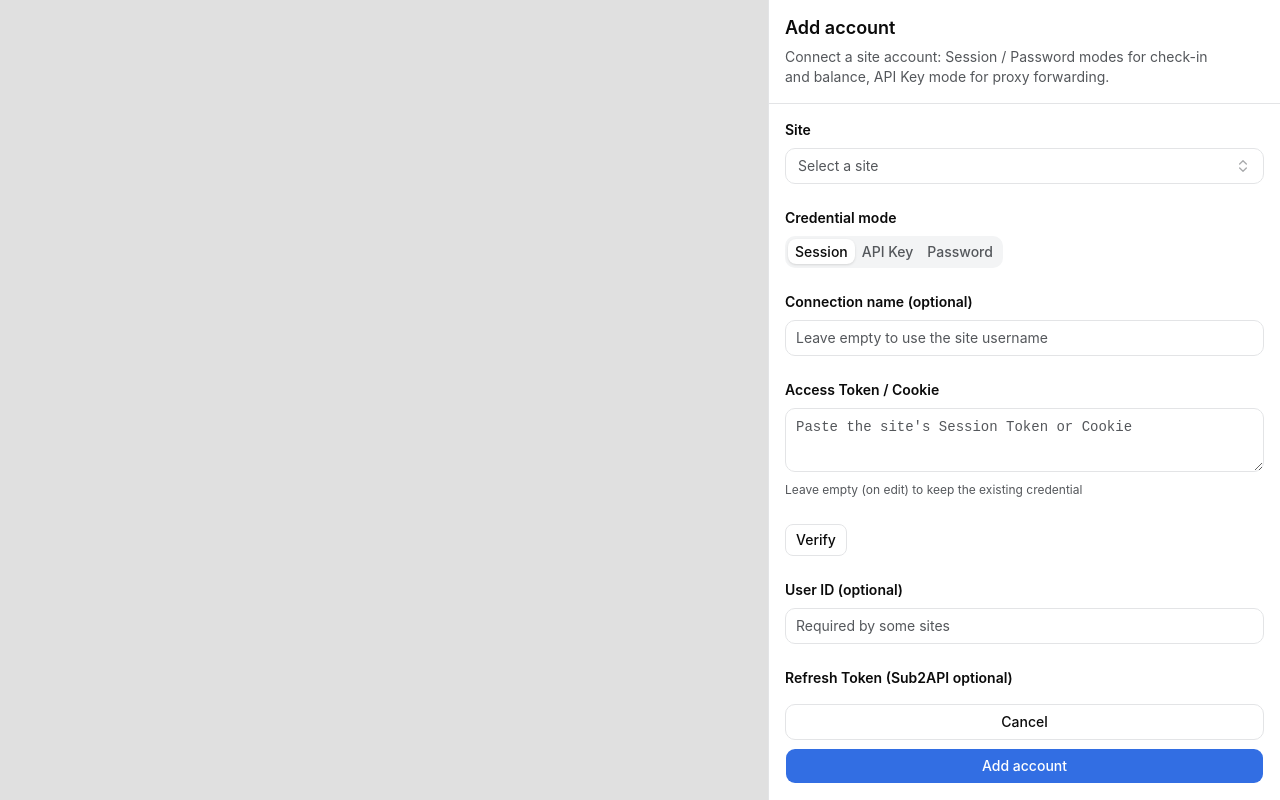
Test: AccountFormDialog dirty-close guard › opens the discard confirm when Cancel is clicked with unsaved edits
Type "dirty-token" into the text box labelled "Access Token / Cookie". click: (1024, 440)
box: [785,408,1264,472]
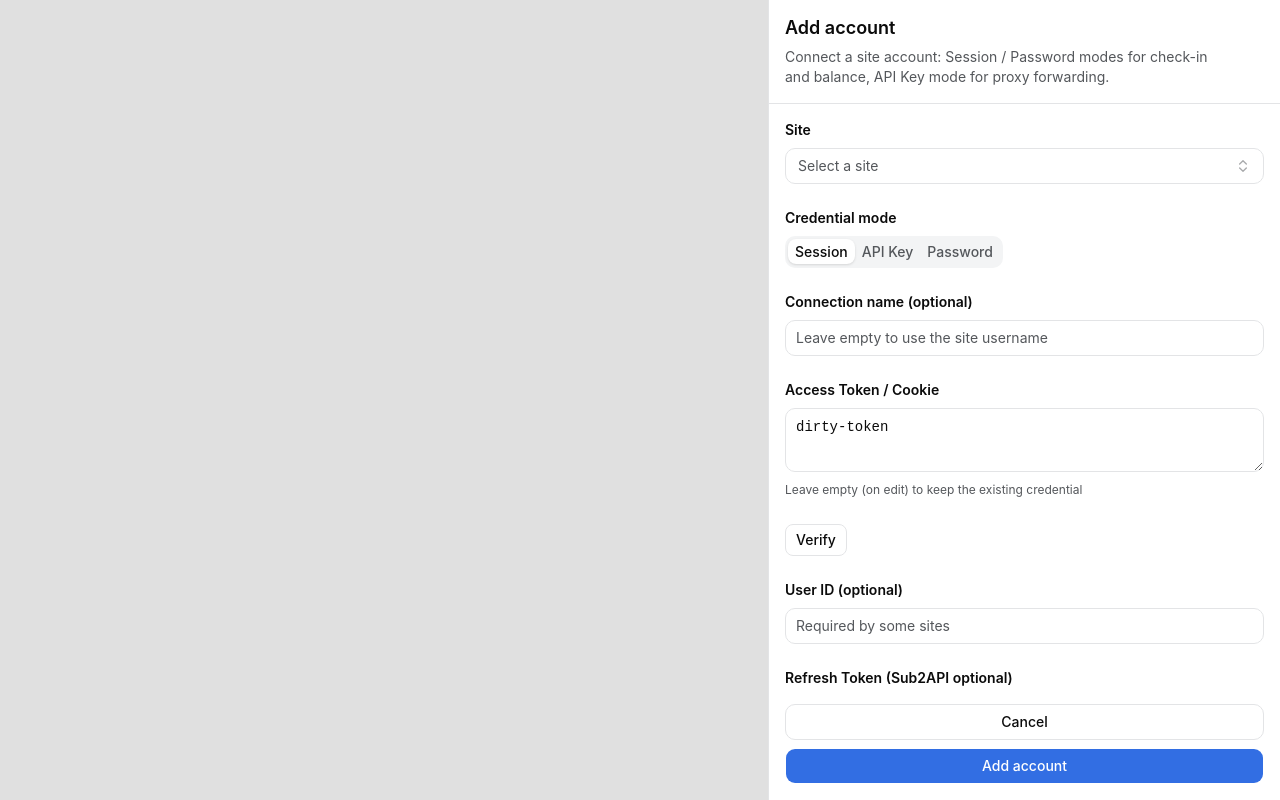
Click the button "Cancel". click: (1024, 722)
box: [785,704,1264,740]
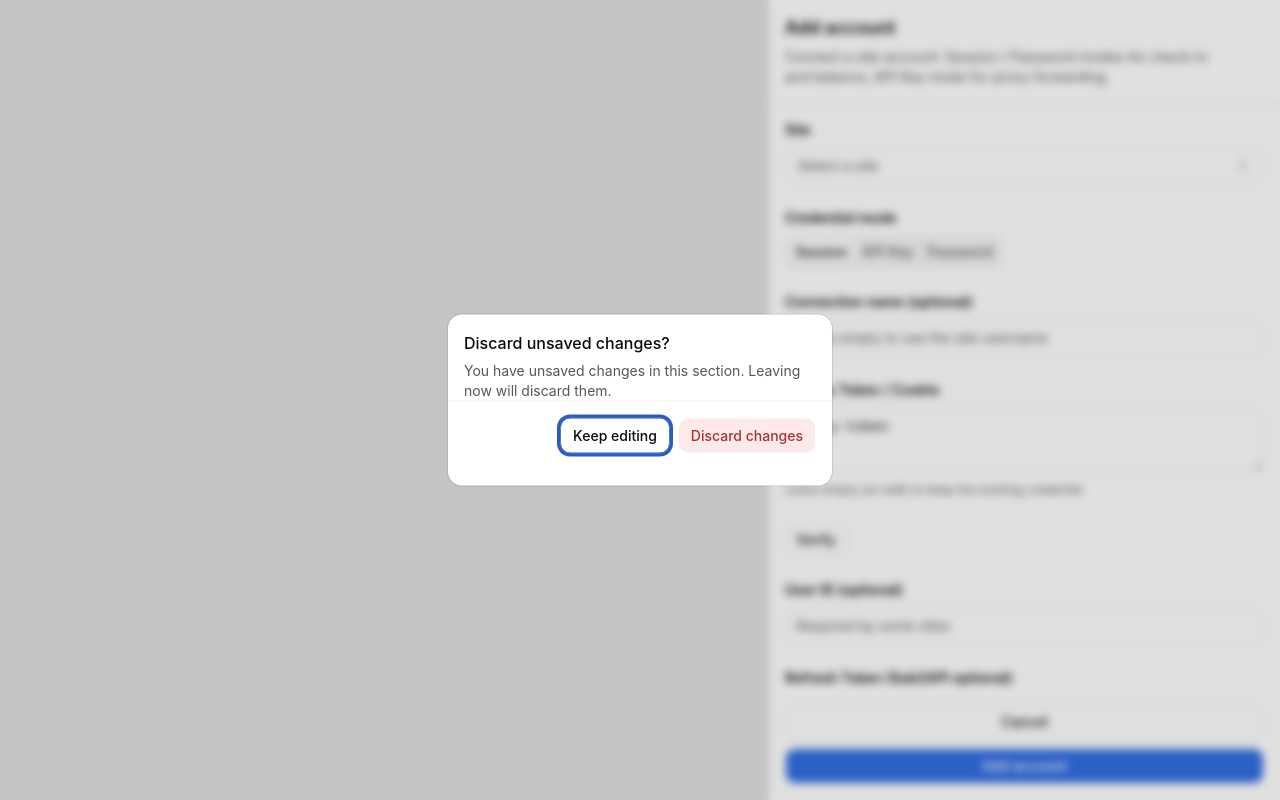
Expected: the heading "Discard unsaved changes?" is shown, [464,330,670,354]
